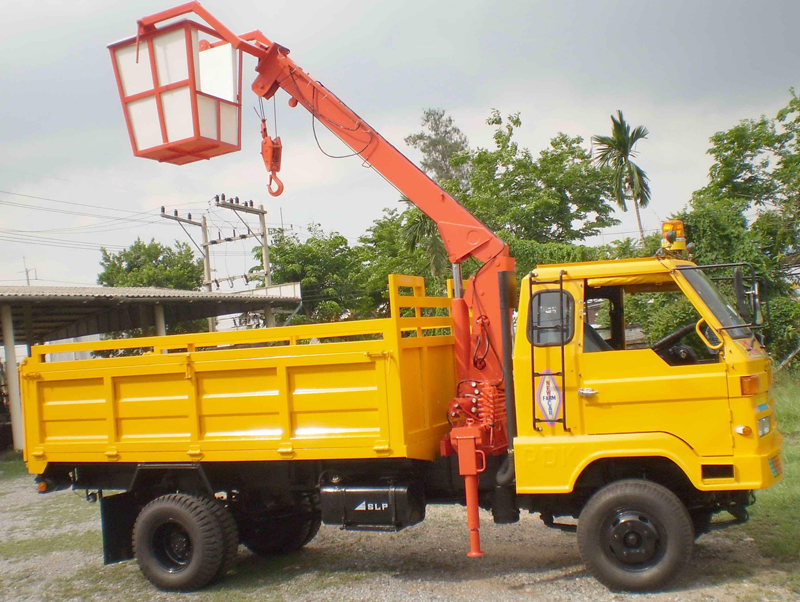truck: (21, 255, 785, 591)
